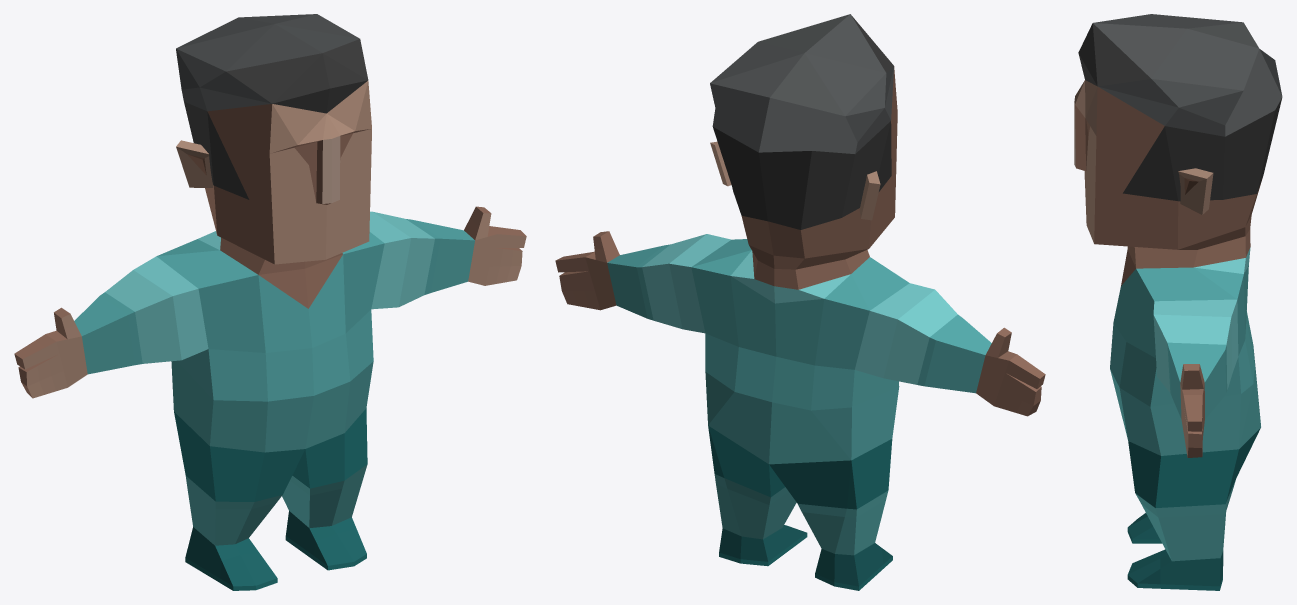
The model's file is esfj.glb.
3 renders of one model, left to right at view 1: azimuth 30°, elevation 25°; view 2: azimuth 150°, elevation 25°; view 3: azimuth 270°, elevation 25°, orthographic. The views are drawn at different scales.
Parts seen in each view (by area): view 1: esfj; view 2: esfj; view 3: esfj.
Boxes of the visible parts, x1,y1,x2,y2 form: esfj: [14, 14, 526, 590]; esfj: [555, 14, 1045, 590]; esfj: [1074, 14, 1282, 590].
Bounding box in the file's own units: 9.96 × 10.11 × 3.58.
2 materials, 2 textured.
